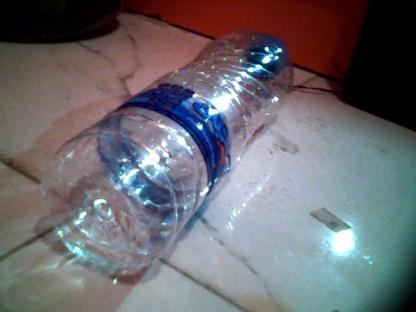Plastic Bottle: (40, 24, 300, 284)
